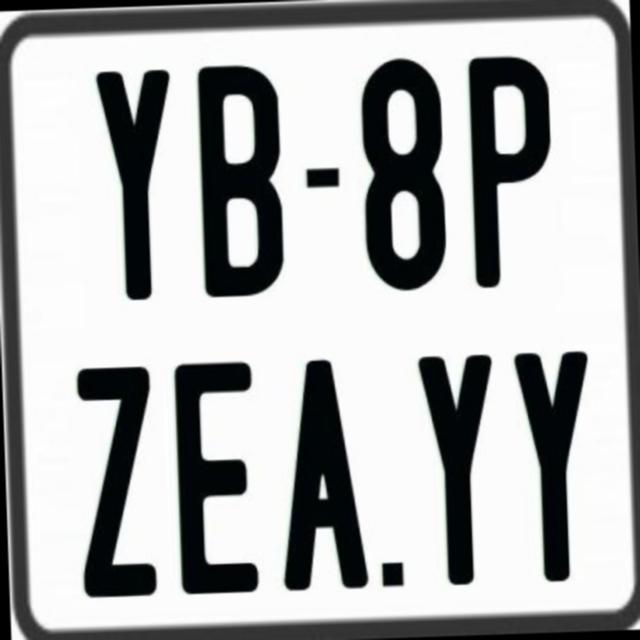8: (356, 53, 447, 291)
A: (275, 354, 375, 588)
B: (195, 59, 282, 301)
E: (170, 356, 262, 590)
P: (464, 51, 554, 285)
Y: (416, 352, 500, 586), (91, 66, 174, 299), (509, 348, 590, 584)
Z: (73, 364, 159, 602)
